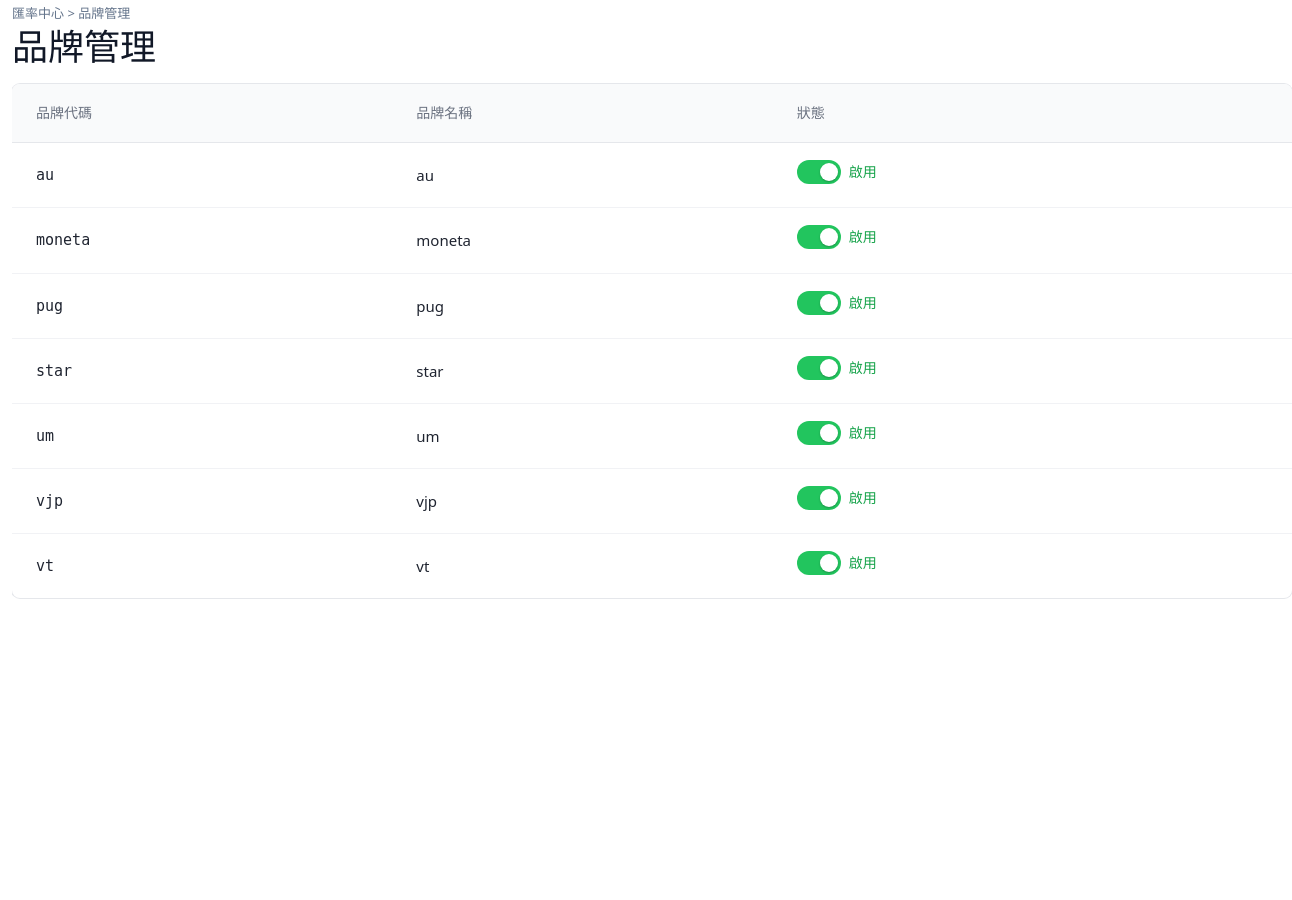
Scenario: BrandManagementPage › reverts the toggle and shows an error toast when the update fails
The width and height of the screenshot is (1292, 900).
Check: the table is shown, box [12,84,1291,598]
Click the switch named "切換 star 啟用狀態" at coordinates (819, 368), box [797,356,841,380]
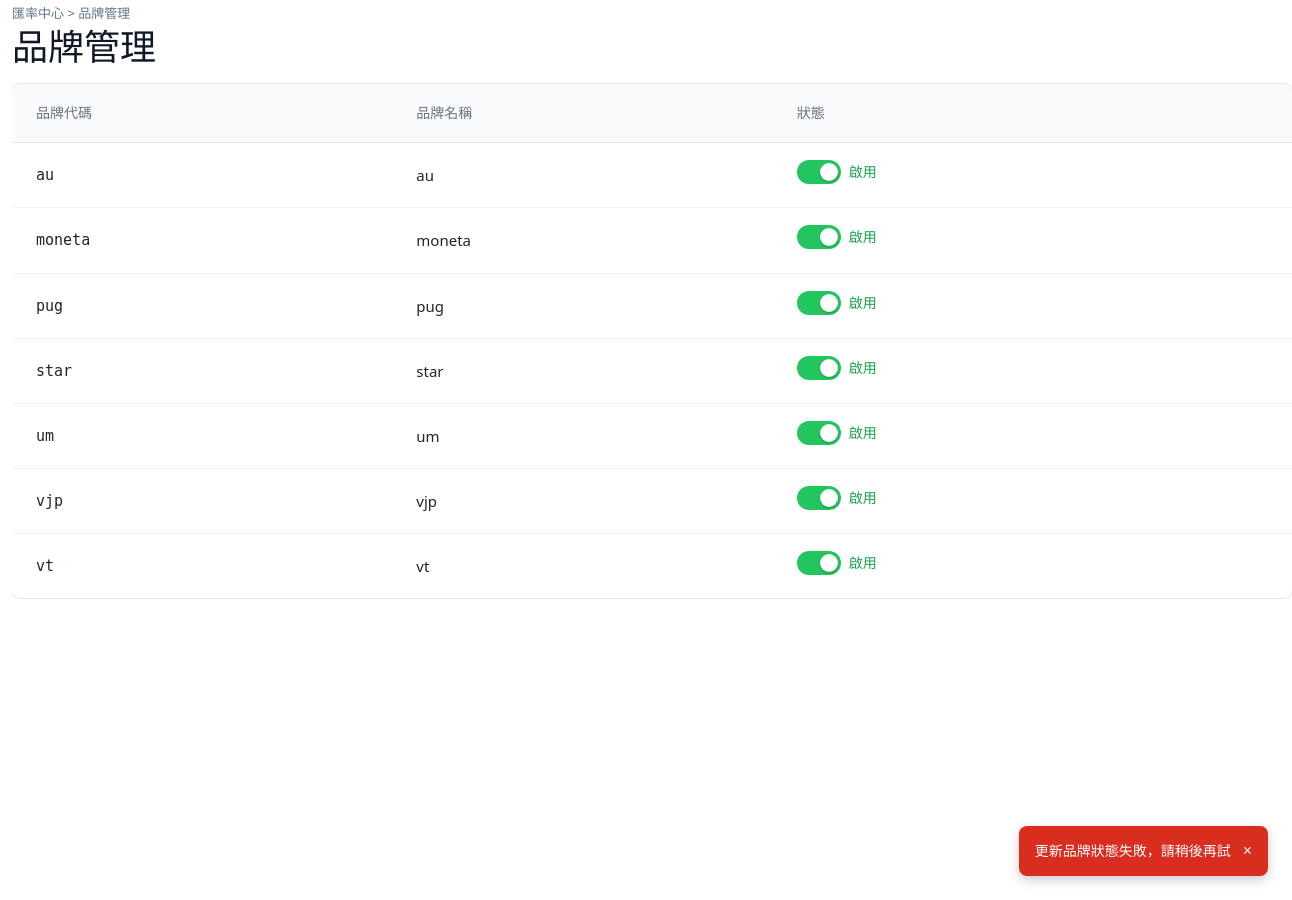
Check: the 4th text "啟用" is shown, box [849,358,877,377]
Check: the text "更新品牌狀態失敗，請稍後再試" is shown, box [1035,838,1231,864]
